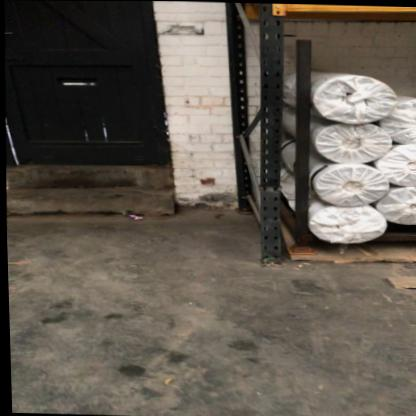vertical_damage: (254, 134, 289, 208)
